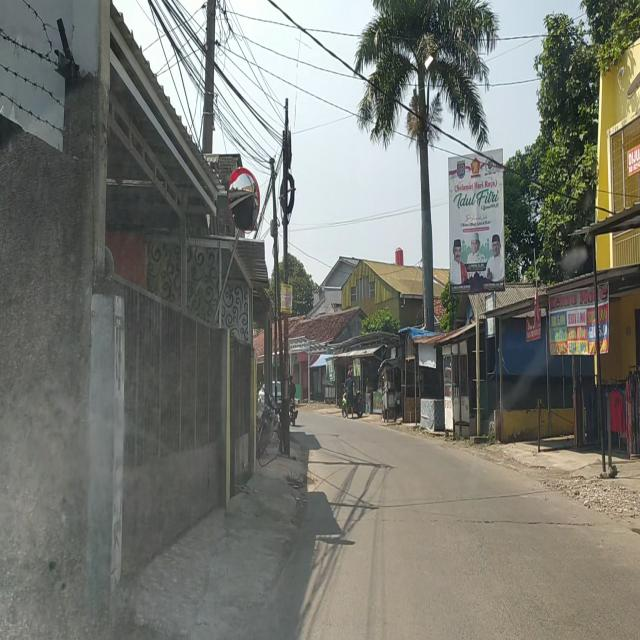Sewer Cover: (456, 518, 596, 530)
